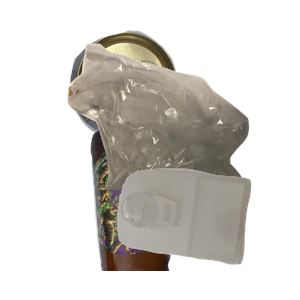glass: (88, 120, 252, 300)
metal: (68, 28, 237, 159)
plastic: (115, 166, 300, 300)
trash: (65, 41, 300, 221)
